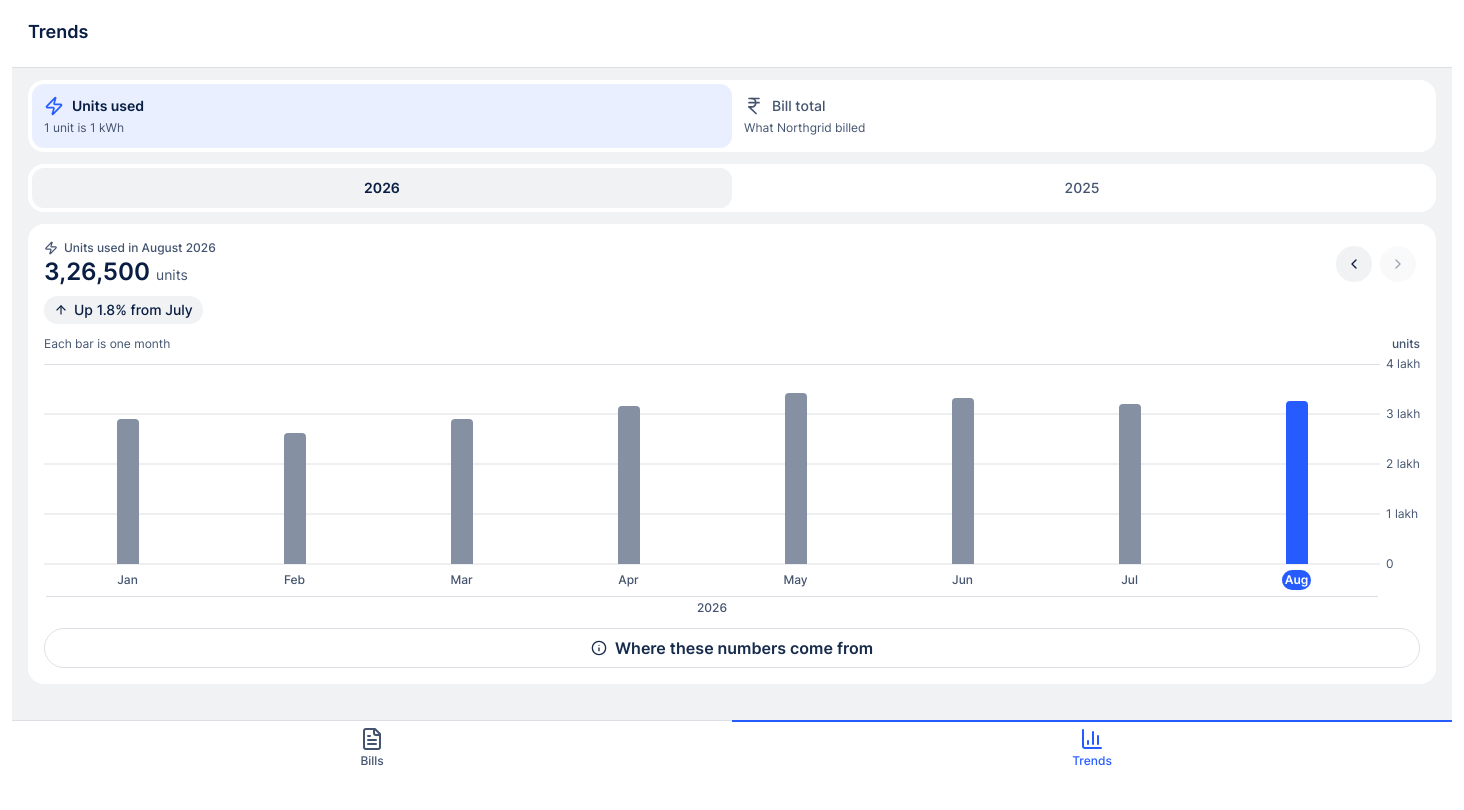
Trends (S12 to S12.6) › selects the month you tap and shows its change, a Highest badge and the steppers
Click the button with aria-label "May 2026" at (796, 491), box [784,393,806,590]
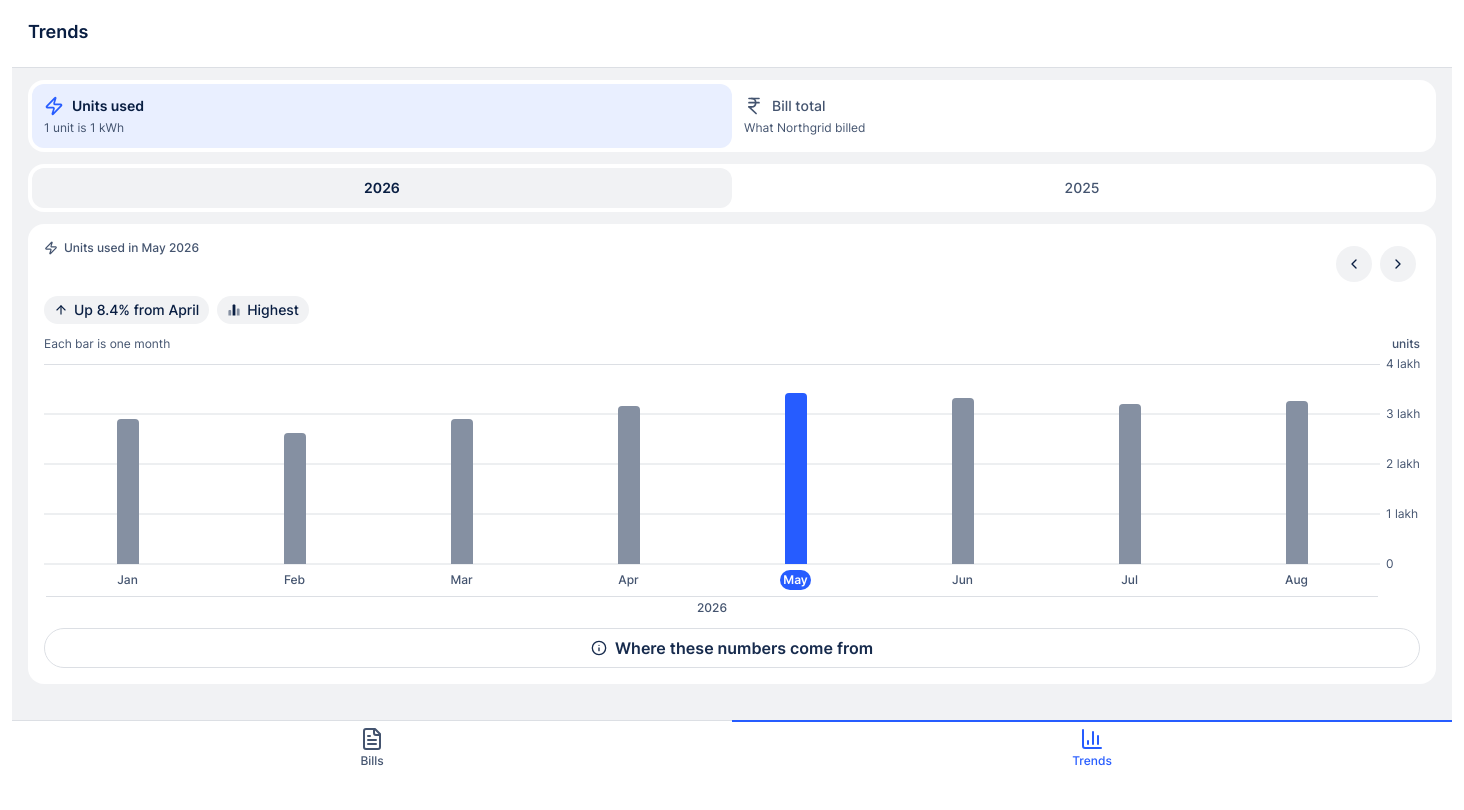
Check: the text "Units used in May 2026" is shown, box [64,240,199,256]
Check: the text "Up 8.4% from April" is shown, box [44,296,209,324]
Check: the text "Highest" is shown, box [217,296,309,324]
Click the button named "Previous month" at (1354, 264), box [1332,242,1376,286]
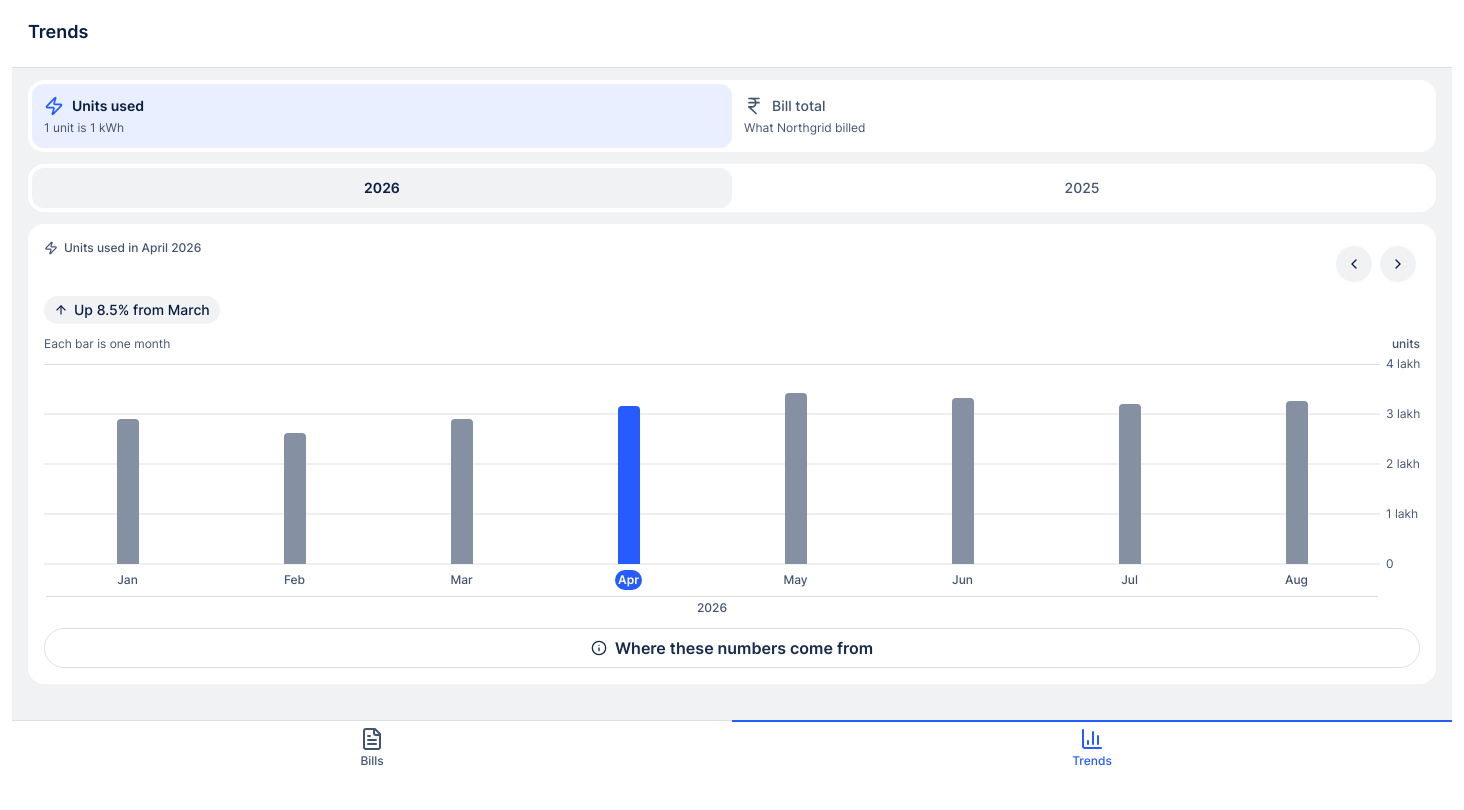
Check: the text "Units used in April 2026" is shown, box [64,240,201,256]
Click the button named "Next month" at (1398, 264), box [1376,242,1420,286]
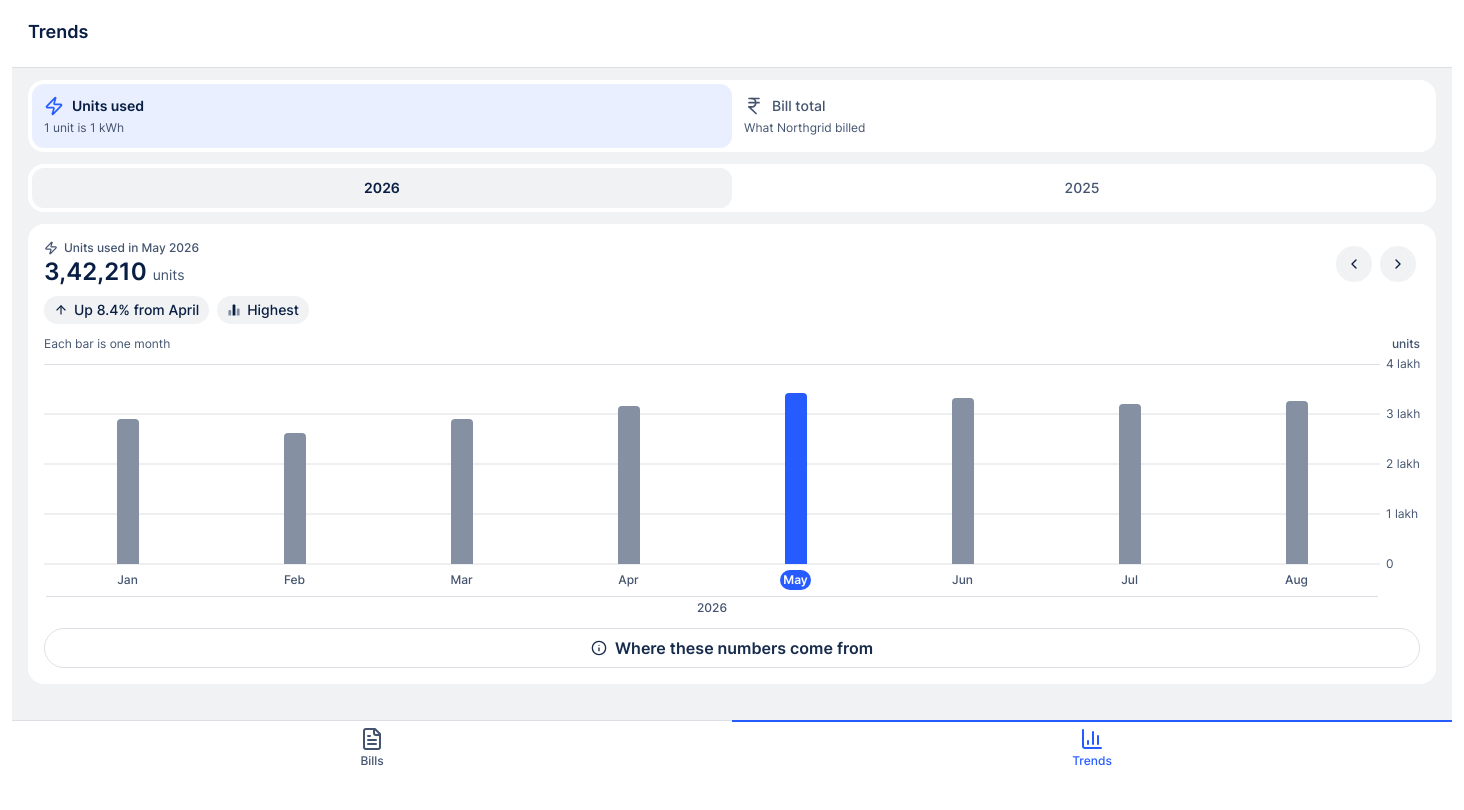
Check: the text "Units used in May 2026" is shown, box [64,240,199,256]
